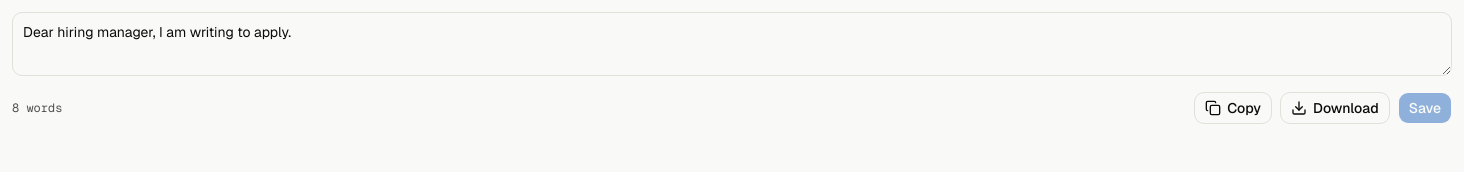
Test: LetterEditor › marks the draft clean again after a successful save
This screenshot has width=1464, height=172.
Replace the text in the text box named "Cover letter" with "Rewritten.": (732, 44) [12, 12, 1452, 76]
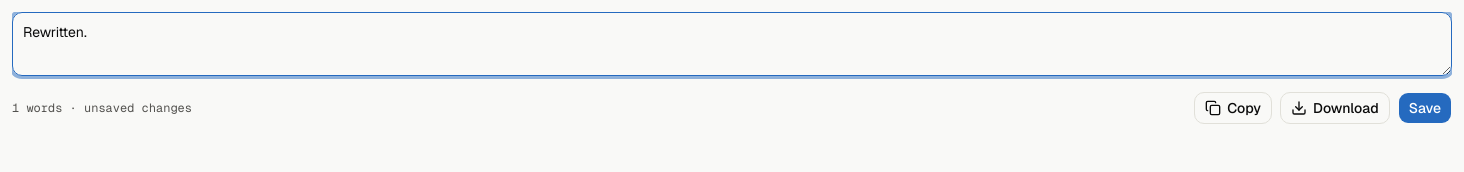
Click the button "Save": (1425, 108) [1398, 92, 1452, 124]
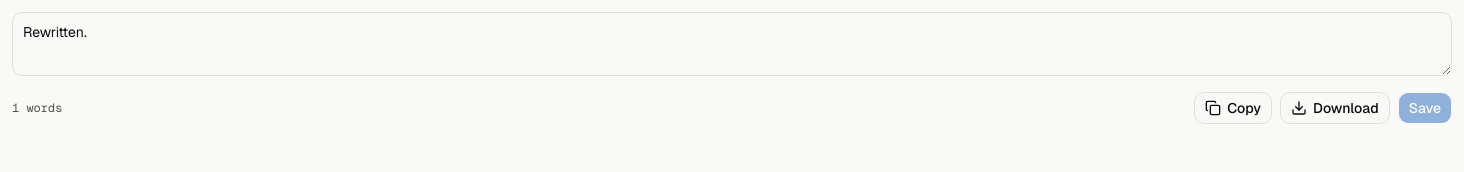
Expected: the text "unsaved changes" is gone
